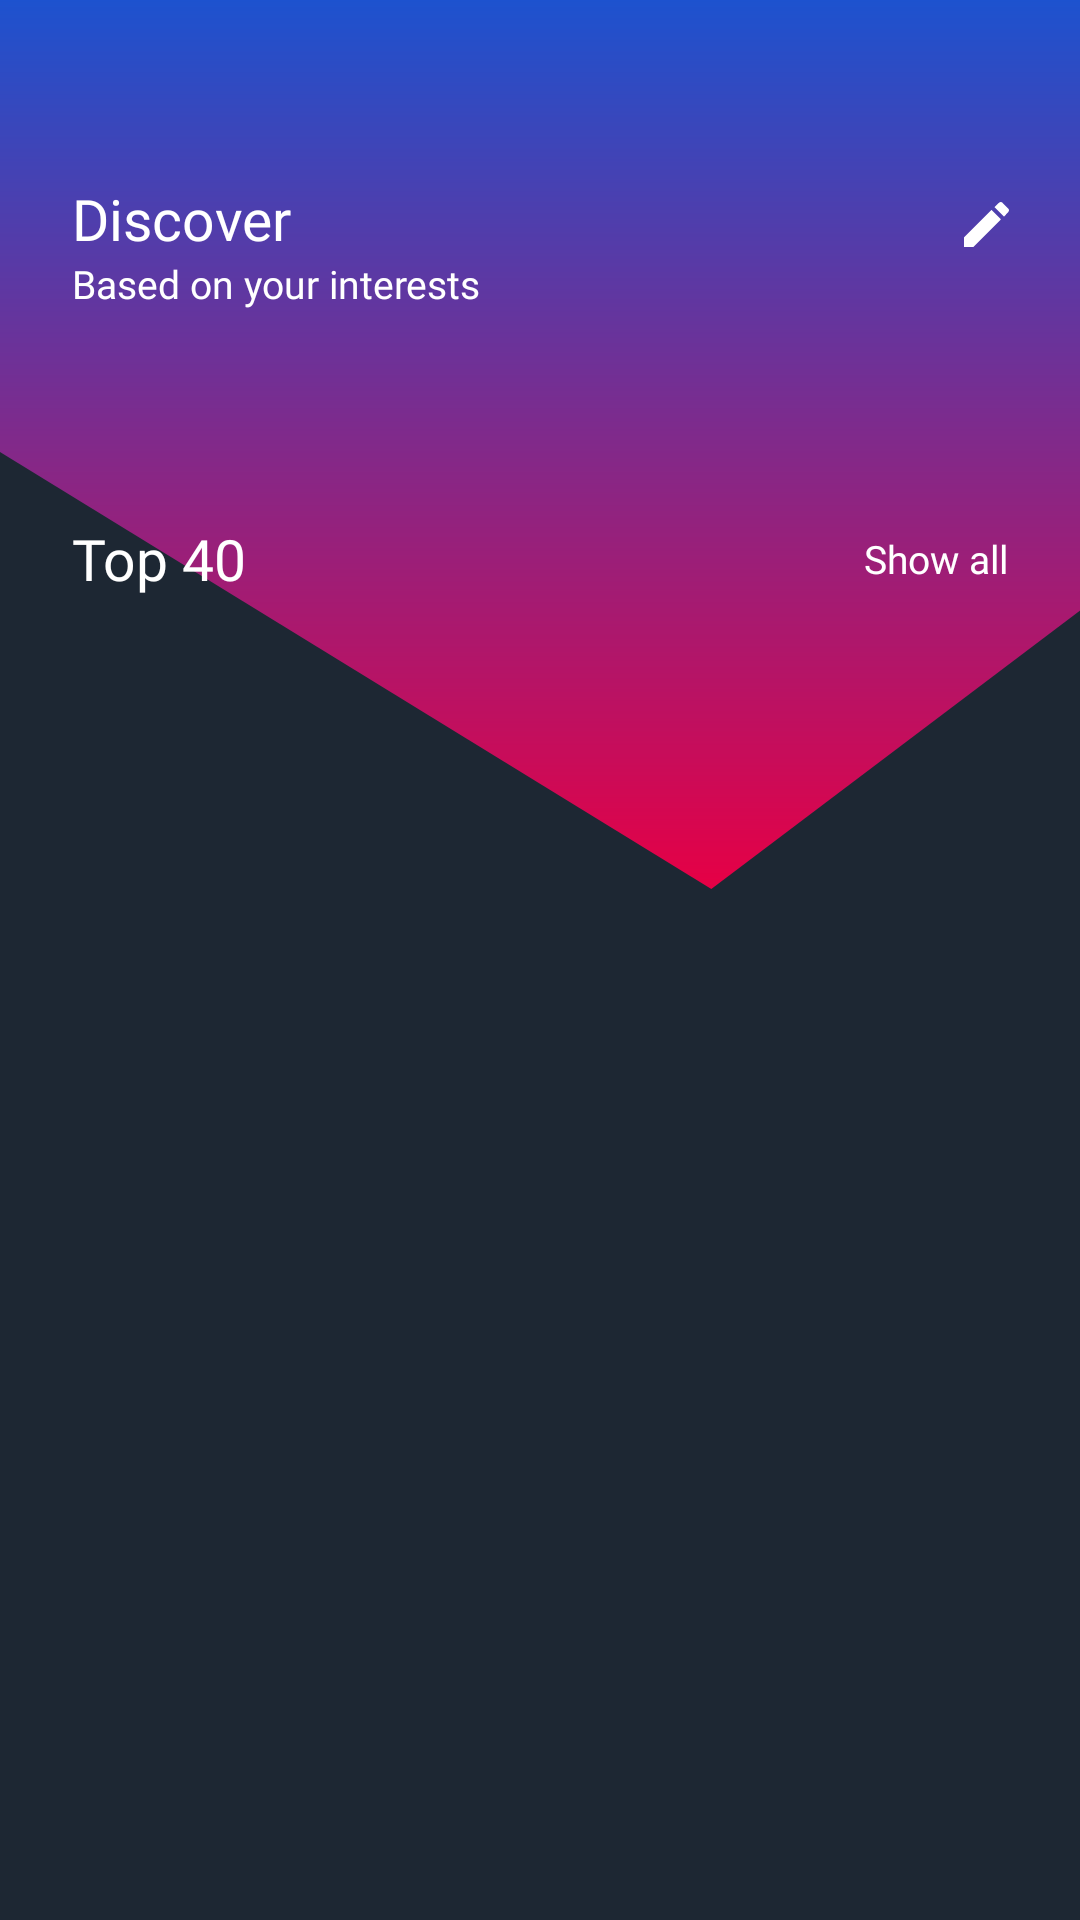

Icons on this 1080*1920 Android screen, each with its box as (x1, y1, x2, y2):
pencil: (964, 202, 1009, 247)
